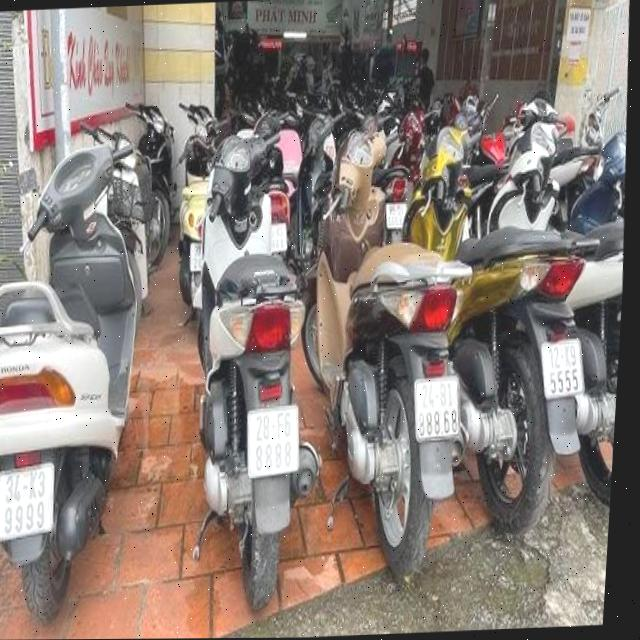motorcycle: (384, 101, 632, 551), (280, 99, 498, 579), (159, 111, 333, 609), (0, 117, 161, 616)
plate: (0, 454, 62, 547), (242, 400, 303, 482), (409, 371, 467, 446), (535, 330, 592, 406)
